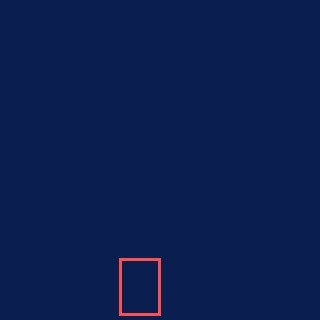drone: (119, 258, 160, 315)
